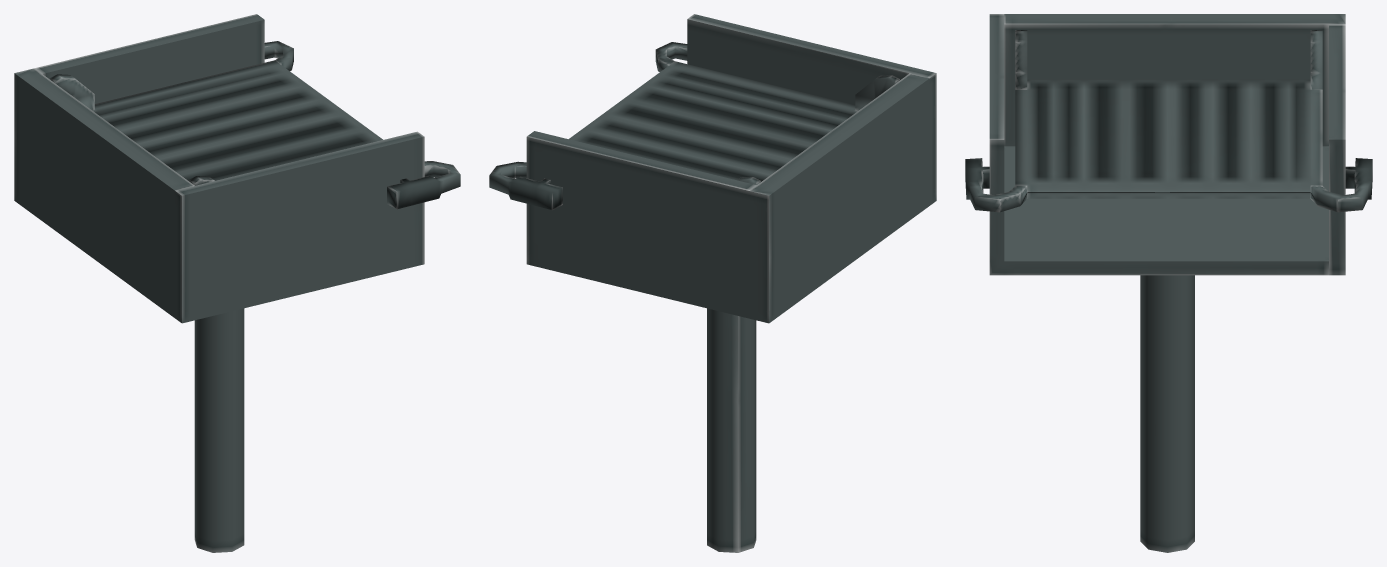
The model's file is grill_Model_V3.fbx.
3 views of the same model, side by side, from view 1: azimuth 30°, elevation 25°; view 2: azimuth 150°, elevation 25°; view 3: azimuth 270°, elevation 25° (orthographic). The views are drawn at different scales.
Visible parts, largest first — view 1: polySurface1; view 2: polySurface1; view 3: polySurface1.
Boxes of the visible parts, x1,y1,x2,y2 form: polySurface1: (14,14,460,552); polySurface1: (489,14,936,552); polySurface1: (965,14,1372,552).
Bounding box in the file's own units: 85.68 × 130 × 103.
